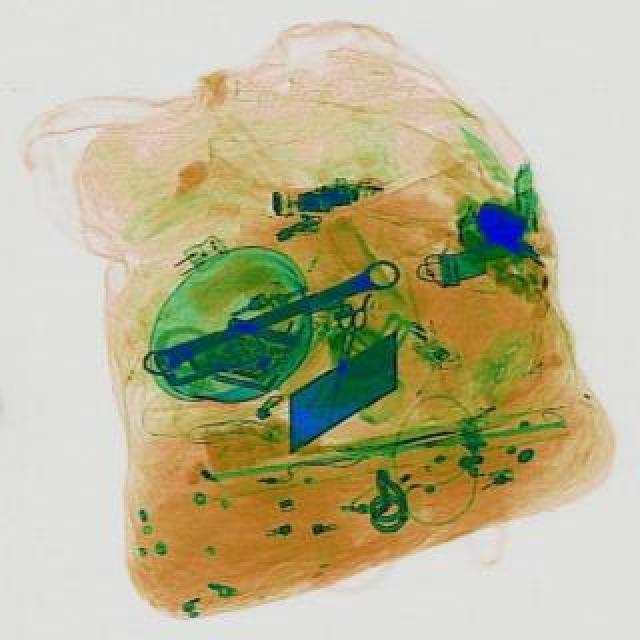scissors: (136, 254, 404, 382)
